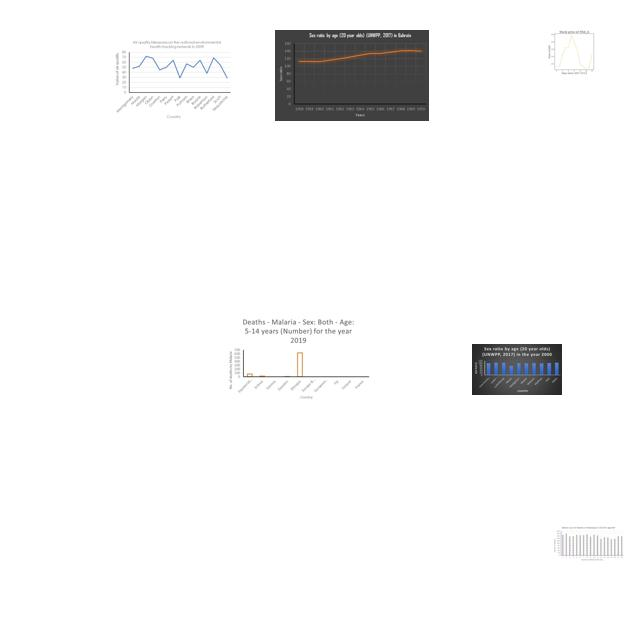Graph: (275, 30, 429, 121), (225, 316, 372, 403), (114, 38, 232, 121), (472, 344, 562, 395), (542, 28, 605, 75), (553, 526, 625, 562)
